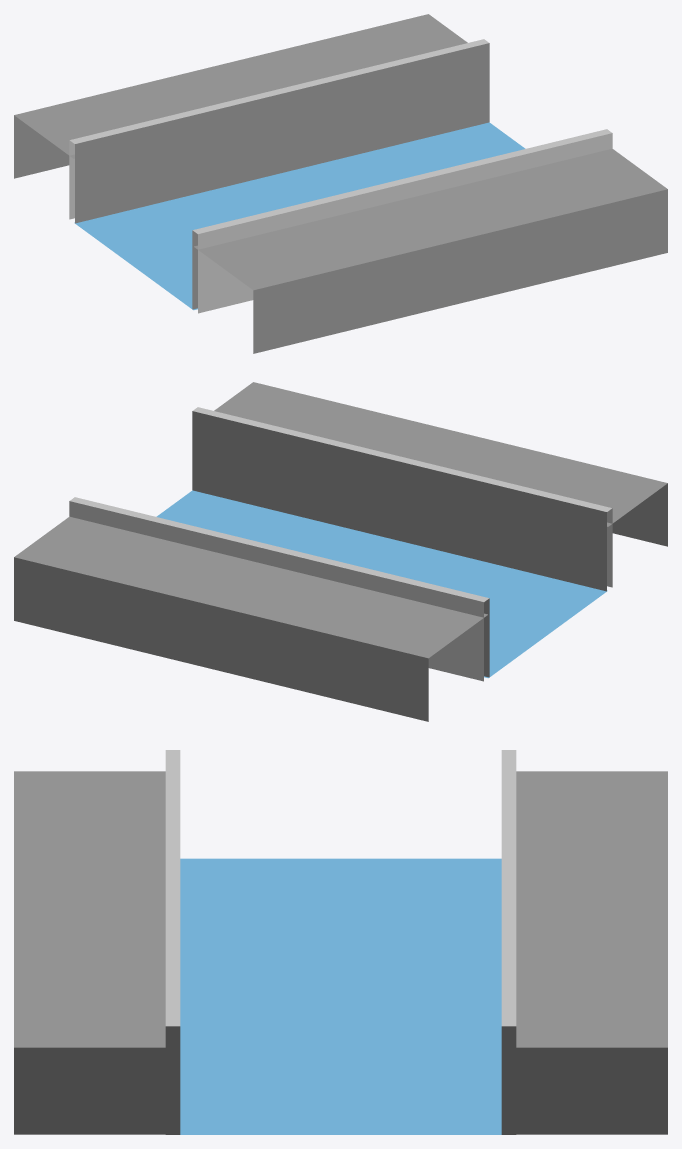
File: River_Tile_5.fbx
3 renders of one model, top to bottom at view 1: azimuth 30°, elevation 25°; view 2: azimuth 150°, elevation 25°; view 3: azimuth 270°, elevation 25°, orthographic. The views are drawn at different scales.
Visible parts, largest first — view 1: River_Tile_5; view 2: River_Tile_5; view 3: River_Tile_5.
Part boxes in pixels (x1,y1,x2,y2): River_Tile_5: (14,14,667,353); River_Tile_5: (14,382,667,721); River_Tile_5: (14,750,667,1134).
Size of the model in its own units: 4 by 0.7315 by 4.
